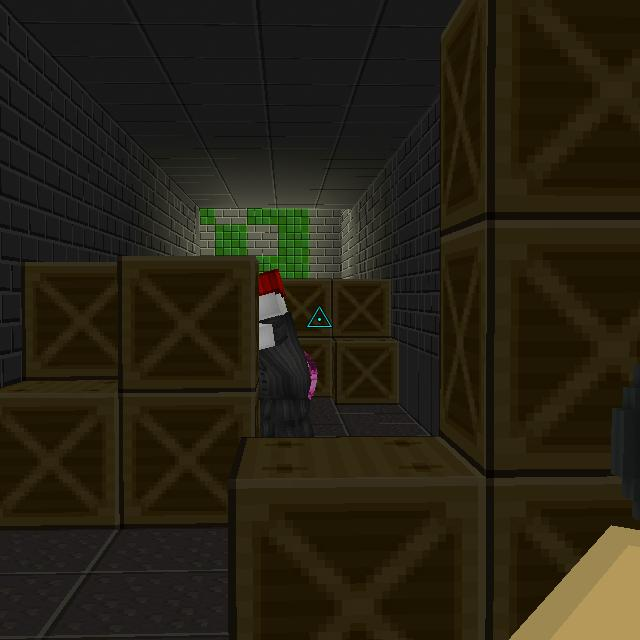enemy: (257, 264, 320, 440)
